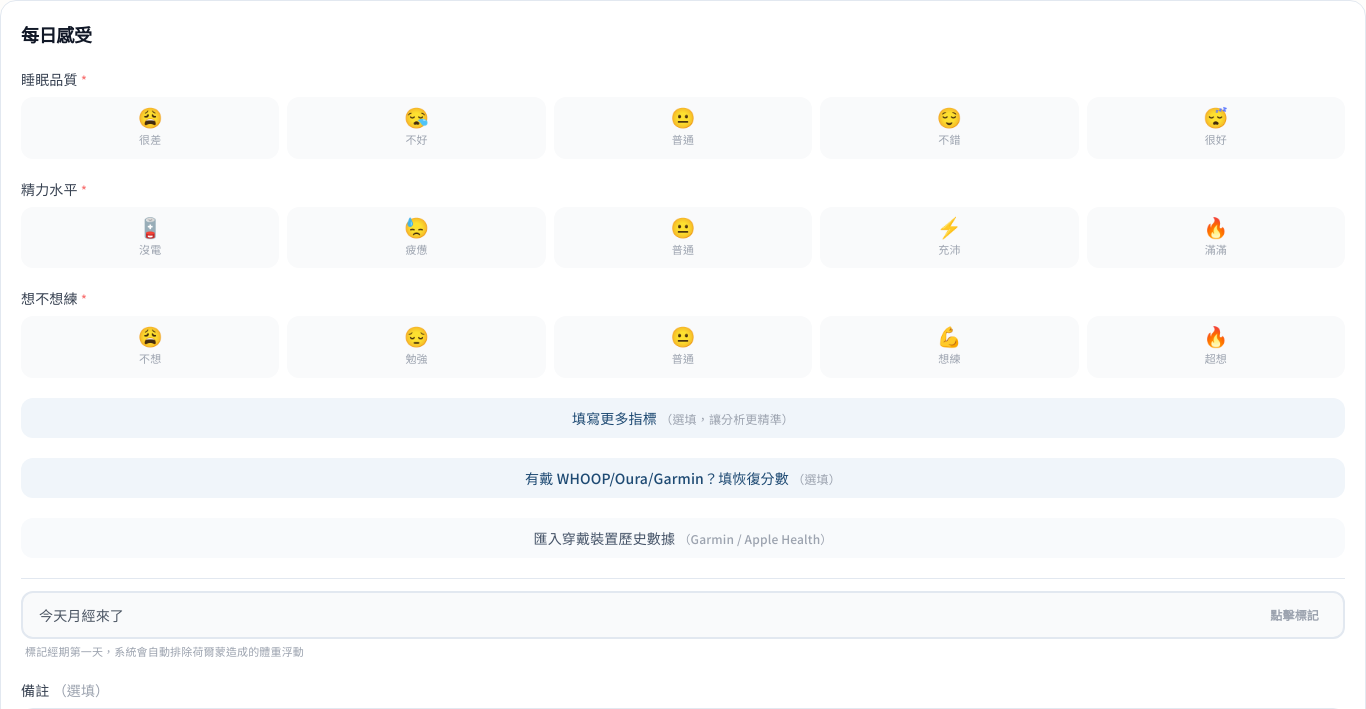
Test: DailyWellness › toggles period start when the period button is clicked
The image size is (1366, 709).
What coordinates should you click on to do the following:
click the button "今天月經來了 點擊標記"
I would click on:
 (81, 615)
Its box is [21, 591, 1345, 639].
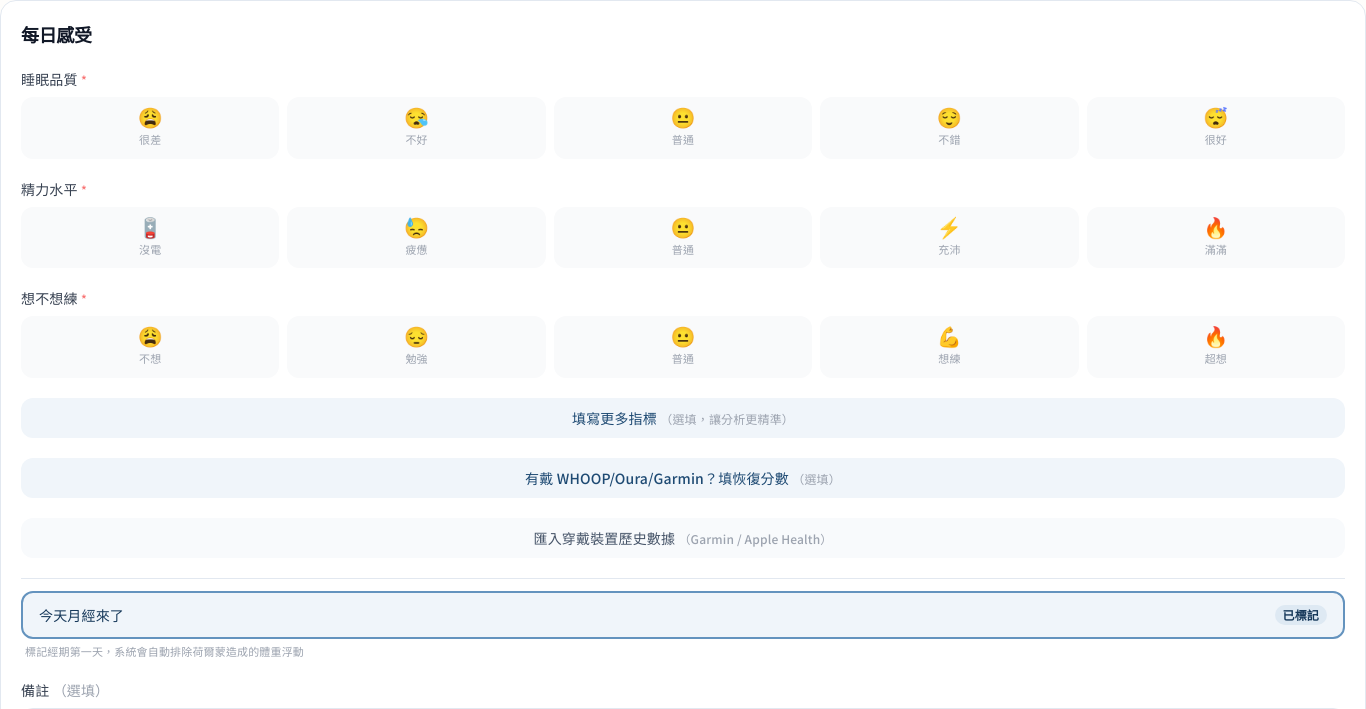
Expected: the text "已標記" is shown, [1274, 605, 1327, 625]
What coordinates should you click on to do the following:
click the button "今天月經來了 已標記"
I would click on:
 (81, 615)
Its box is [21, 591, 1345, 639].
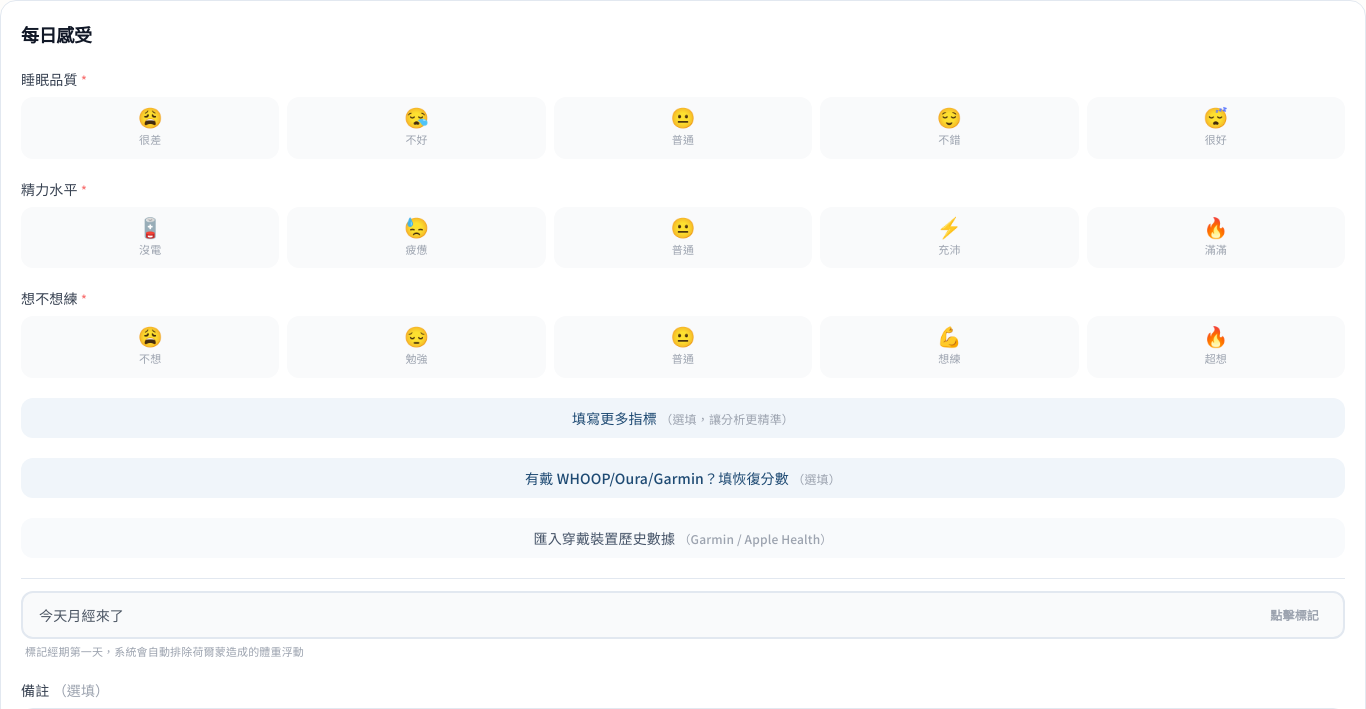
Expected: the text "點擊標記" is shown, [1270, 606, 1319, 623]
